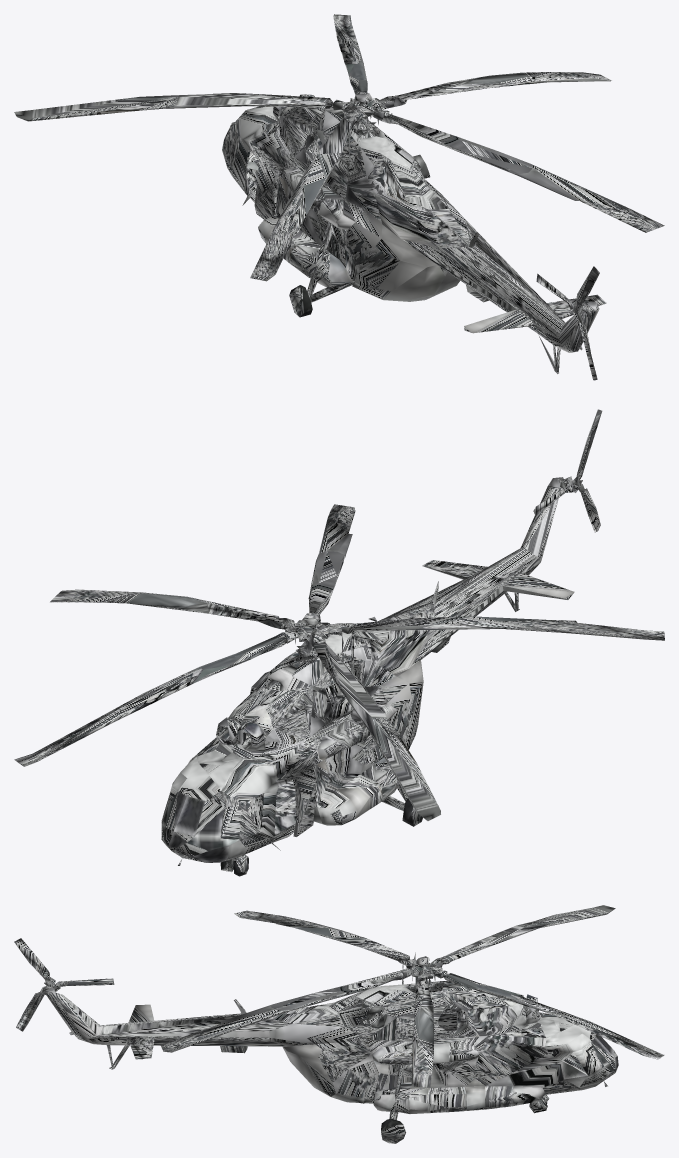
The model's file is mi8_emercom_22k.glb.
3 renders of one model, top to bottom at view 1: azimuth 30°, elevation 25°; view 2: azimuth 150°, elevation 25°; view 3: azimuth 270°, elevation 25°, orthographic. The views are drawn at different scales.
Visible parts, largest first — view 1: fuselage, main_rotor; view 2: fuselage, main_rotor; view 3: fuselage, main_rotor, tail_rotor.
Part boxes in pixels (x1,y1,x2,y2): fuselage: [222, 59, 606, 380]; main_rotor: [14, 14, 664, 281]; fuselage: [161, 473, 600, 876]; main_rotor: [14, 504, 664, 820]; fuselage: [16, 964, 618, 1143]; main_rotor: [160, 905, 664, 1087]; tail_rotor: [14, 938, 49, 979].
Bounding box in the file's own units: 12.37 × 5.12 × 18.19.
Materials: 1 (1 with a texture image).
